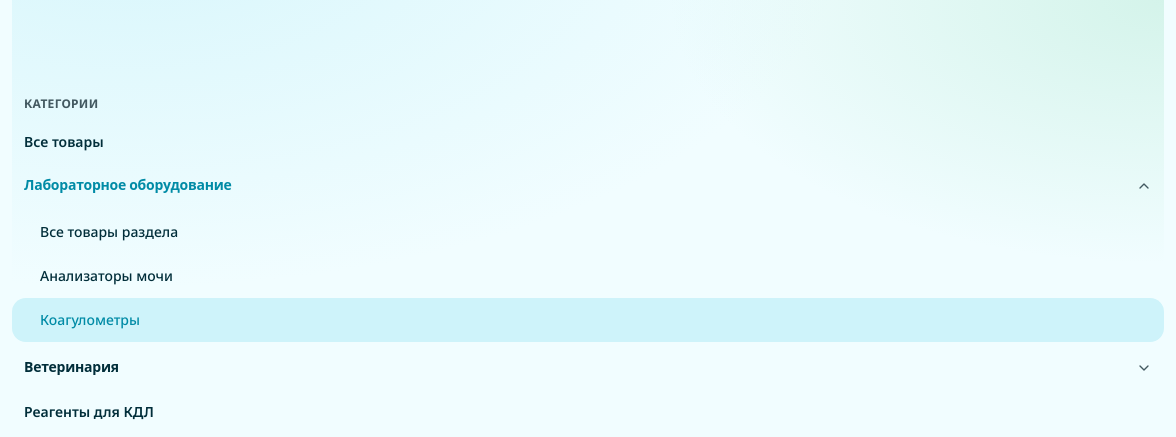
CategoryFilter › клик по другой ветке раскрывает её, даже если где-то уже выбран узел
Step 1. Click the button "Ветеринария" → (71, 368), box [12, 346, 1164, 390]
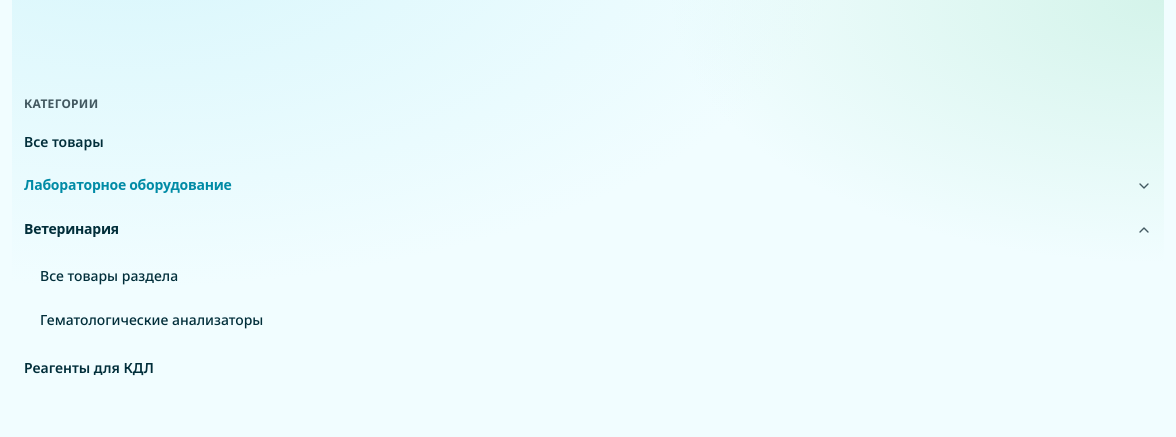
Now the button "Ветеринария" is expanded, box [12, 208, 1164, 252]
Now the button "Гематологические анализаторы" is shown, box [12, 298, 1164, 342]
